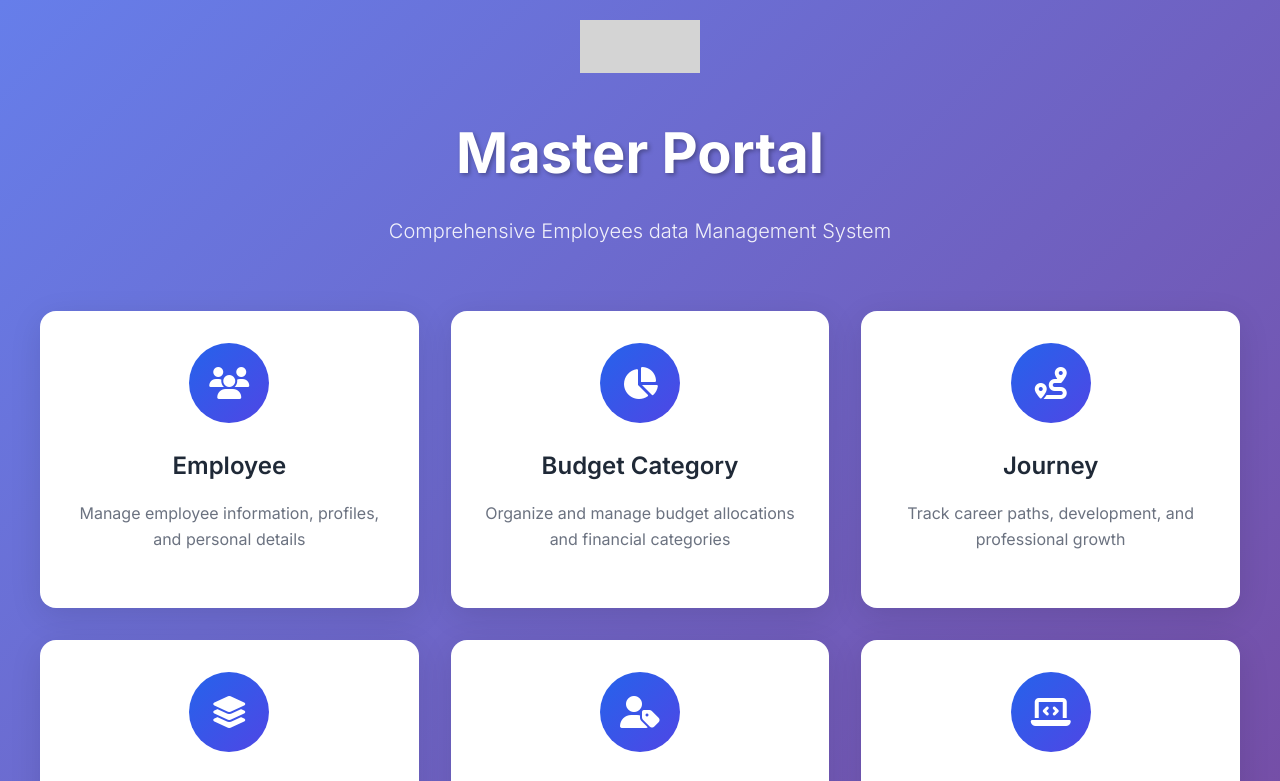
Master Portal - Journey Management › should navigate to Journey Management
Click the text "Journey" at x=1051, y=460, box [861,311,1240,609]
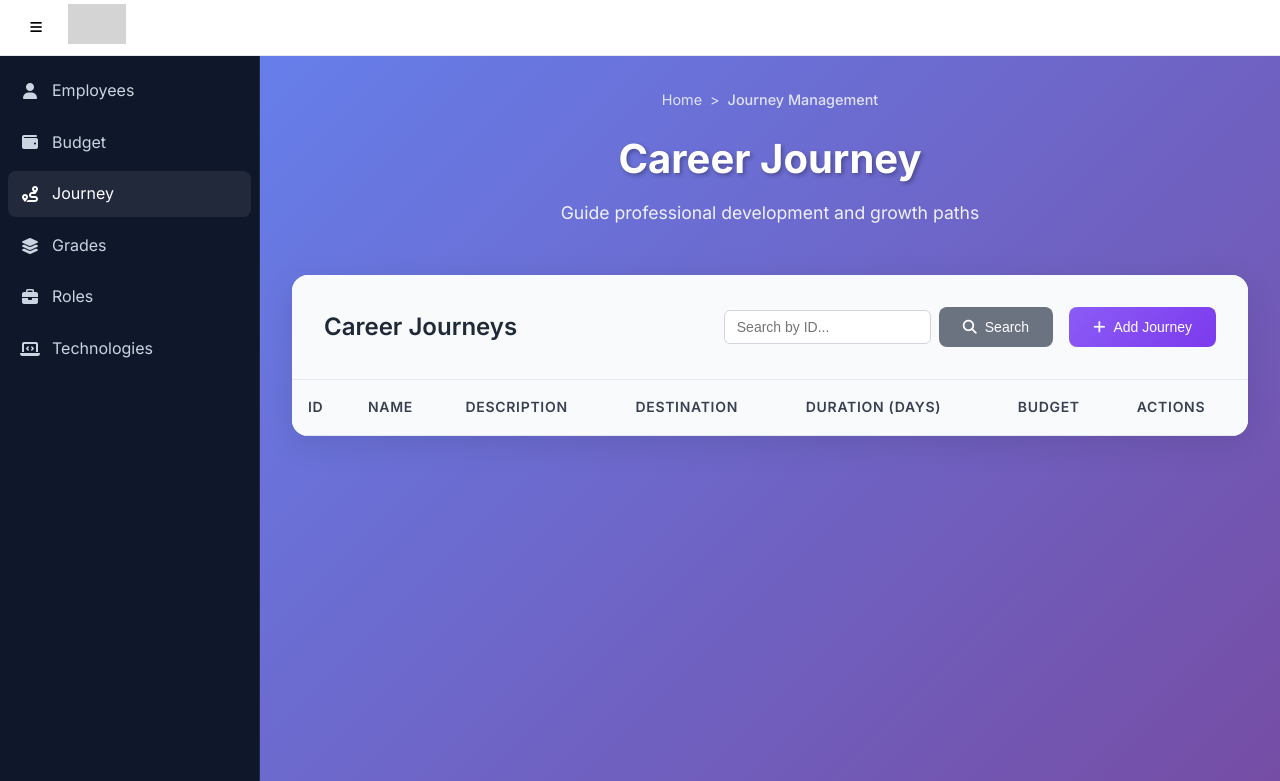
Expected: the text "Journey Management" is shown, [728,91,878,108]
